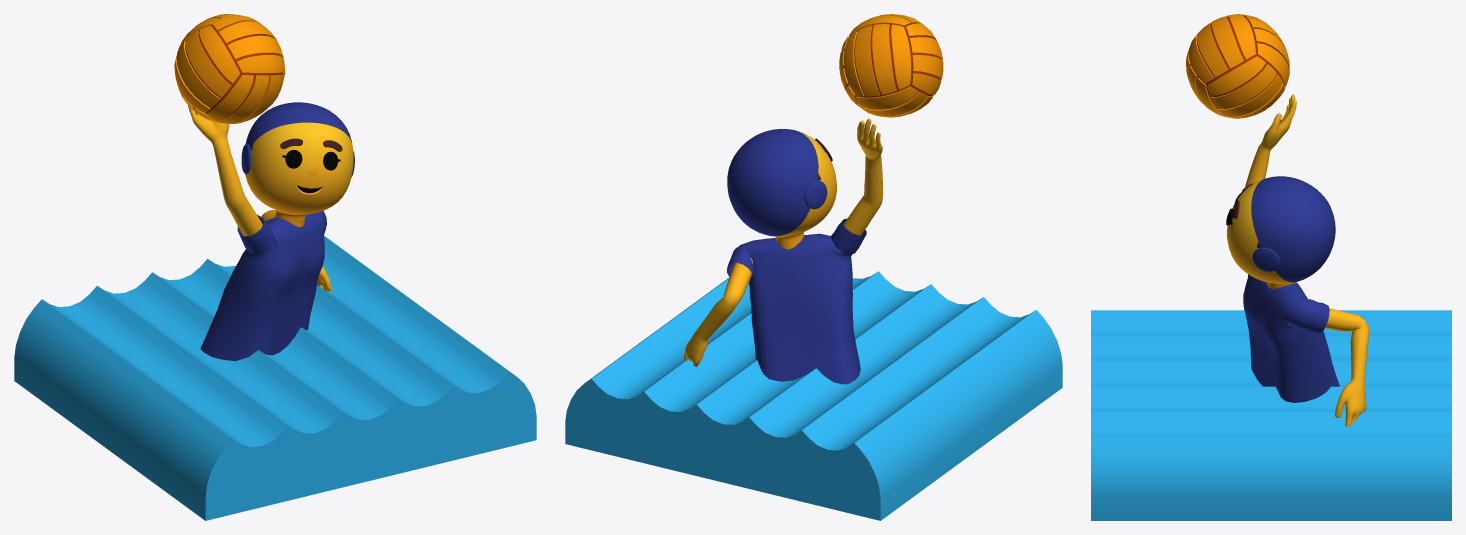
Rendered from woman_playing_water_polo.fbx.
The picture shows the model from 3 angles, left to right: view 1: azimuth 30°, elevation 25°; view 2: azimuth 150°, elevation 25°; view 3: azimuth 270°, elevation 25°; orthographic projection. The views are drawn at different scales.
Visible parts, largest first — view 1: Cube.324, Circle.267, Cube.325, Roundcube.494; view 2: Cube.324, Circle.267, Roundcube.494, Cube.325; view 3: Cube.324, Circle.267, Roundcube.494, Cube.325, Cylinder.411.
Boxes of the visible parts, left/top/right/bottom form: Cube.324: left=14, top=236, right=536, bottom=520; Circle.267: left=188, top=105, right=331, bottom=360; Cube.325: left=174, top=14, right=285, bottom=123; Roundcube.494: left=245, top=102, right=353, bottom=226; Cube.324: left=565, top=271, right=1062, bottom=520; Circle.267: left=683, top=118, right=882, bottom=384; Roundcube.494: left=727, top=129, right=836, bottom=249; Cube.325: left=839, top=14, right=943, bottom=117; Cube.324: left=1091, top=310, right=1451, bottom=520; Circle.267: left=1243, top=94, right=1369, bottom=427; Roundcube.494: left=1227, top=176, right=1335, bottom=289; Cube.325: left=1186, top=14, right=1289, bottom=118; Cylinder.411: left=1252, top=247, right=1279, bottom=271.
Size of the model in its own units: 160 by 195 by 160.
2 materials, 2 textured.
